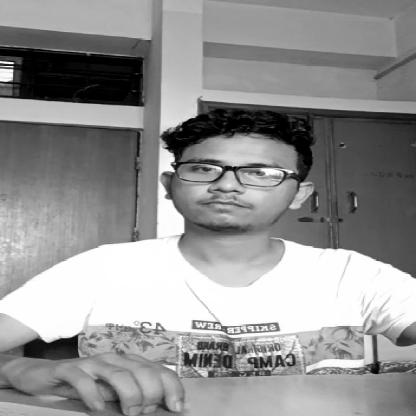Normal: (161, 141, 311, 239)
